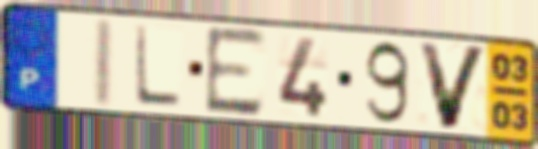4: (276, 35, 331, 120)
9: (362, 39, 412, 126)
E: (202, 24, 268, 120)
I: (89, 15, 116, 110)
L: (132, 23, 185, 111)
V: (414, 39, 492, 132)
